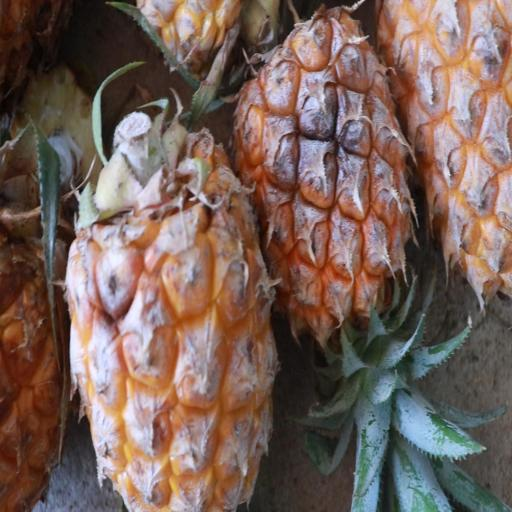Pineapple - v8 v1: (59, 121, 276, 512), (227, 0, 425, 385)
